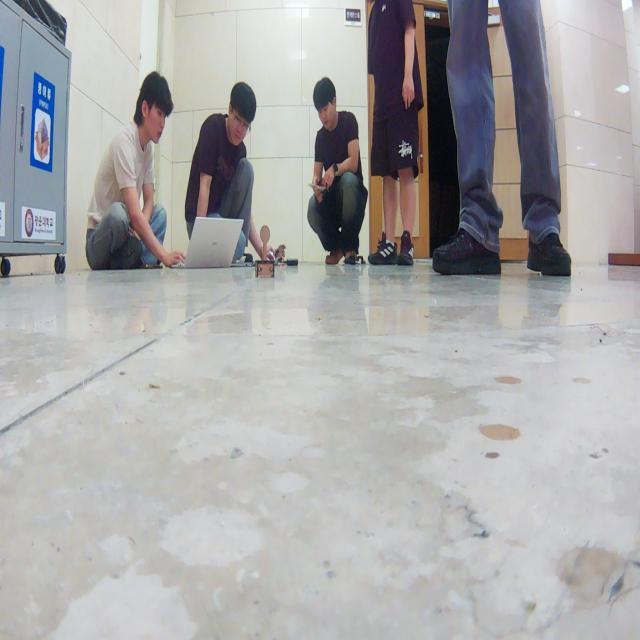target: (254, 225, 274, 278)
